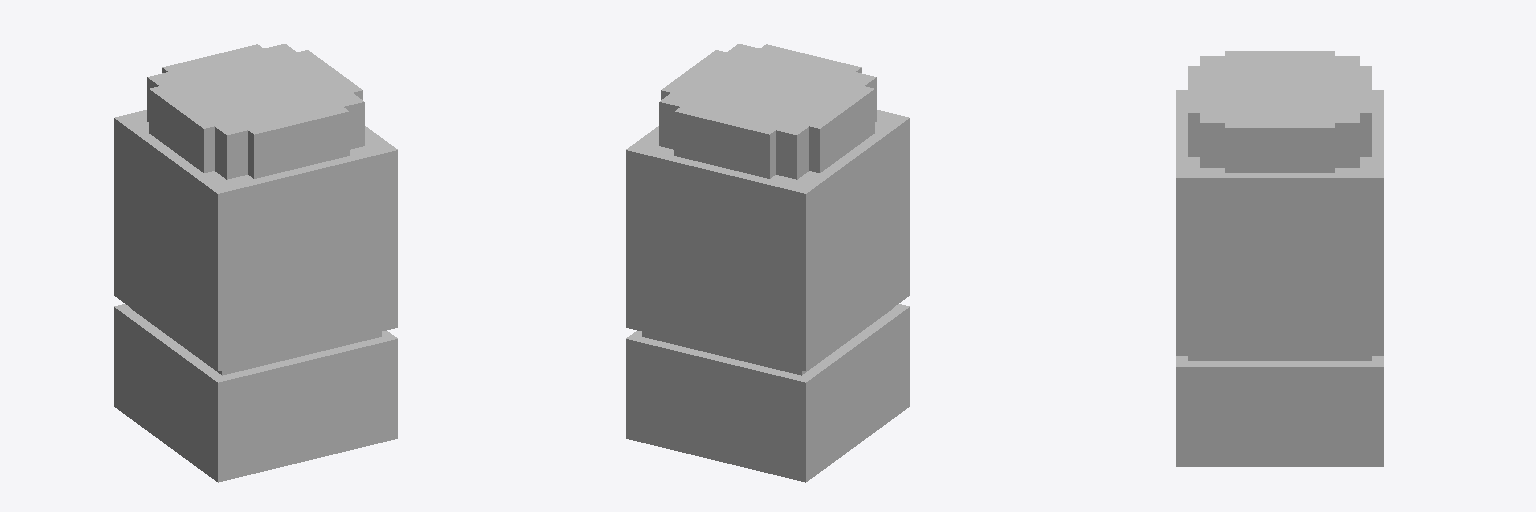
File: Bottle.obj
The picture shows the model from 3 angles: view 1: azimuth 30°, elevation 25°; view 2: azimuth 150°, elevation 25°; view 3: azimuth 270°, elevation 25°; orthographic projection.
Size of the model in its own units: 17 by 30 by 17.